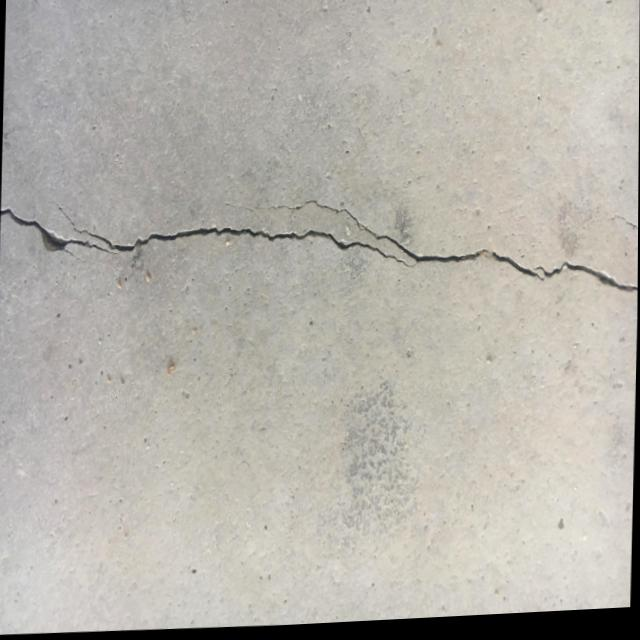Crack: (0, 190, 251, 270), (417, 244, 638, 318), (245, 197, 428, 283)
